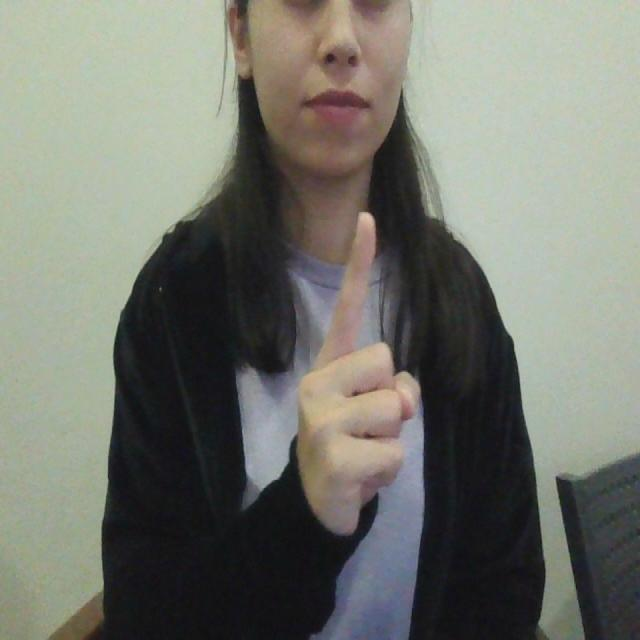Hayir: (290, 206, 429, 532)
